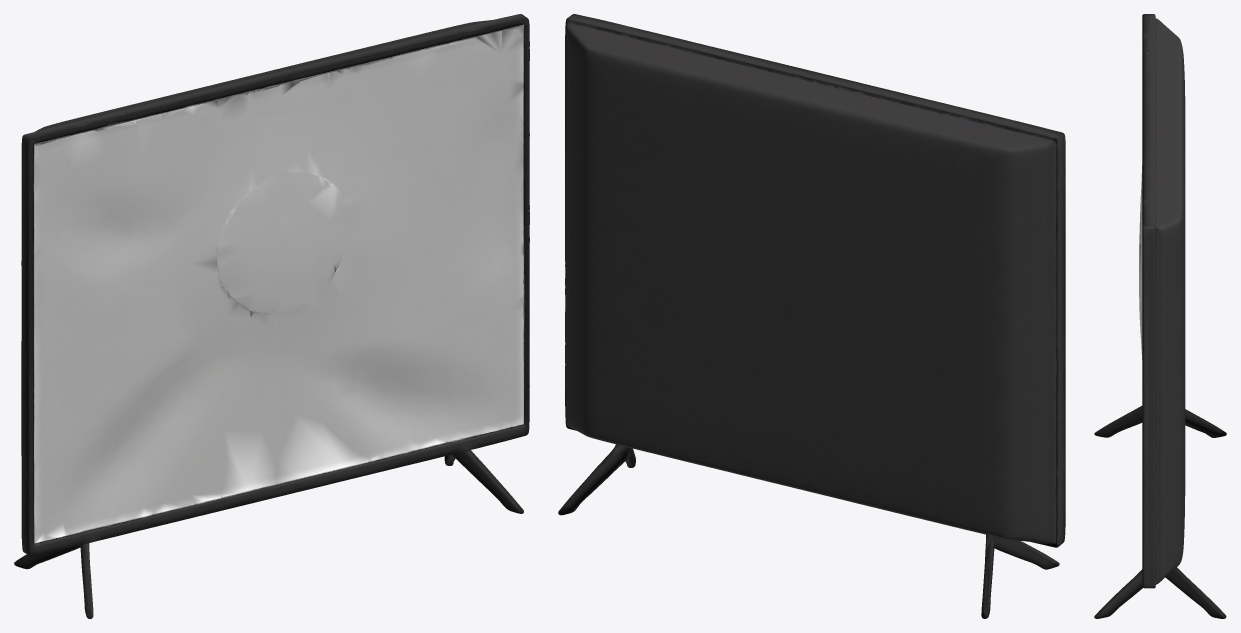
The picture shows the model from 3 angles, left to right: view 1: azimuth 30°, elevation 25°; view 2: azimuth 150°, elevation 25°; view 3: azimuth 270°, elevation 25°; orthographic projection. The views are drawn at different scales.
Visible parts, largest first — view 1: tripo_node_81fa4829-a087-43a5-bfb8-536761eaf603; view 2: tripo_node_81fa4829-a087-43a5-bfb8-536761eaf603; view 3: tripo_node_81fa4829-a087-43a5-bfb8-536761eaf603.
Part boxes in pixels (left/top/right/bottom): tripo_node_81fa4829-a087-43a5-bfb8-536761eaf603: left=14, top=14, right=529, bottom=618; tripo_node_81fa4829-a087-43a5-bfb8-536761eaf603: left=558, top=14, right=1065, bottom=618; tripo_node_81fa4829-a087-43a5-bfb8-536761eaf603: left=1094, top=14, right=1226, bottom=618.
Size of the model in its own units: 0.981 by 0.8736 by 0.2573.
Materials: 1 (1 with a texture image).
